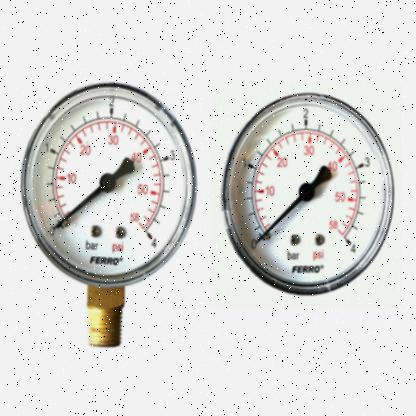needle: (51, 183, 105, 232), (255, 194, 304, 246)
